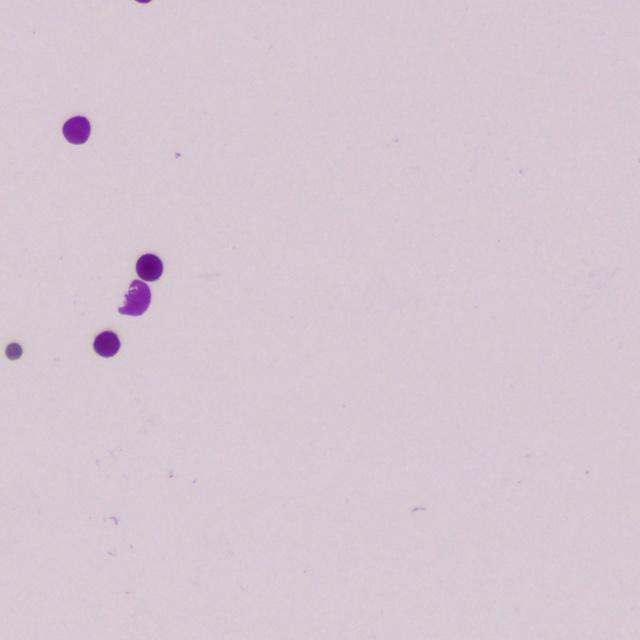non_viable: (5, 342, 22, 359)
viable: (119, 280, 150, 315), (63, 116, 90, 144), (136, 254, 162, 281), (94, 331, 120, 357)
